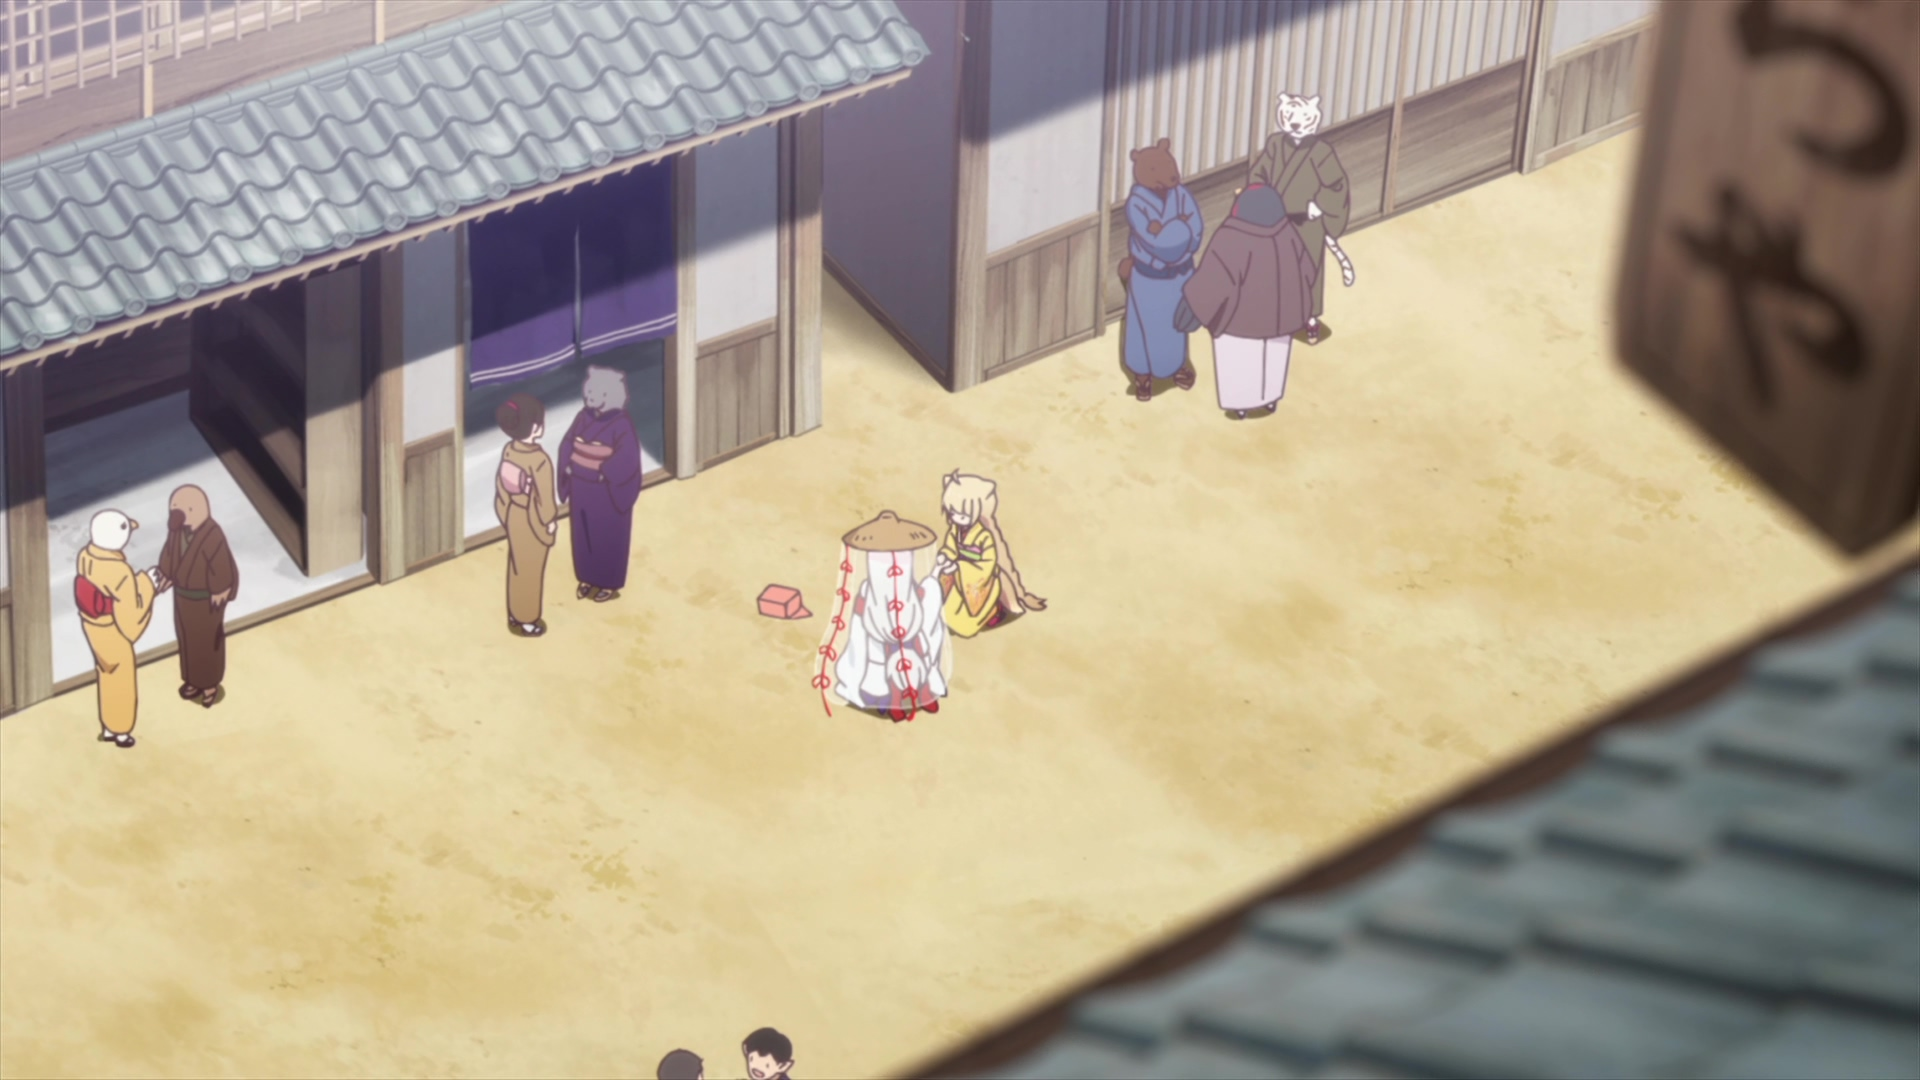其他: (1175, 183, 1317, 419), (818, 509, 953, 723), (1247, 94, 1352, 343), (1120, 138, 1199, 397), (76, 508, 160, 750), (156, 483, 241, 711), (559, 367, 641, 601), (492, 396, 556, 640), (737, 1026, 793, 1080)
柚: (936, 471, 1048, 637)
